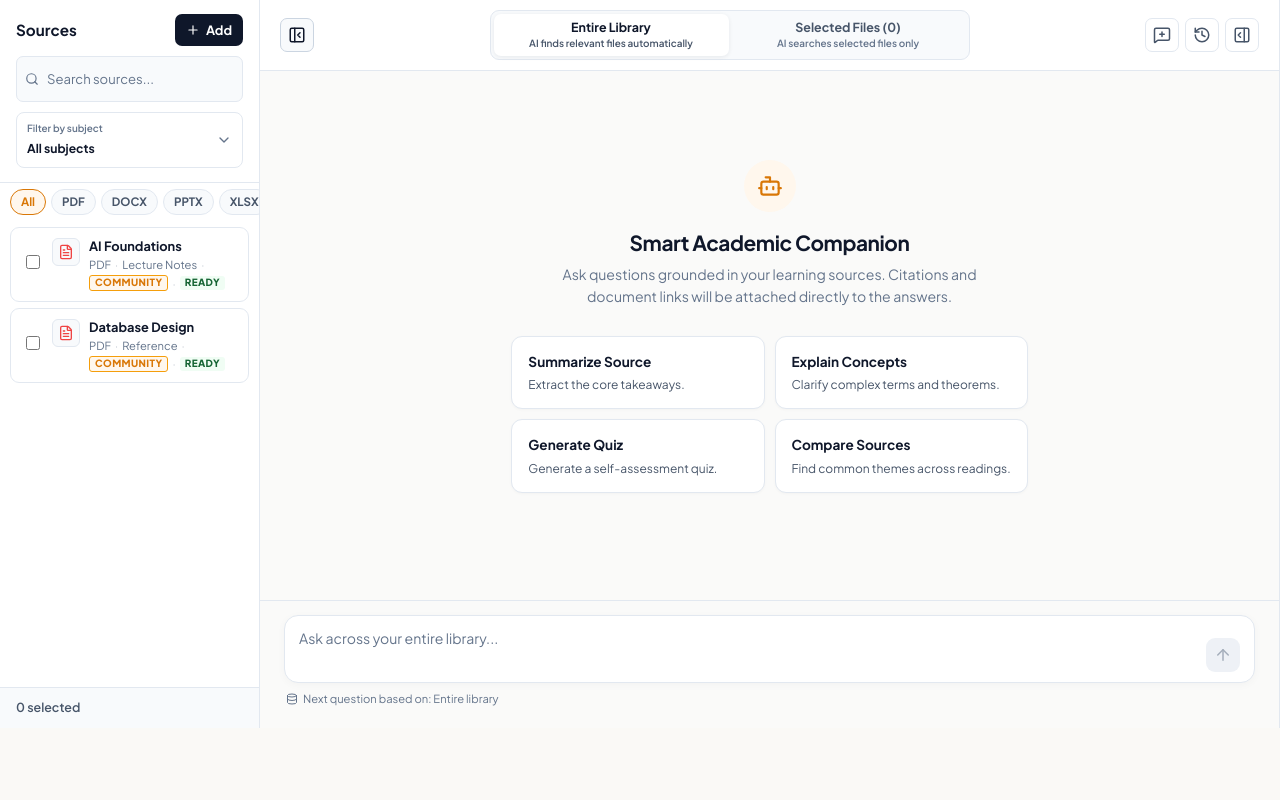
Test case: AiChatbotView subject filter › supports selecting multiple subjects and filters the source list
The width and height of the screenshot is (1280, 800).
Check: the text "AI Foundations" is shown, box left=89, top=238, right=182, bottom=254
Click the button "Filter by subject All subjects" at x=130, y=140, box left=16, top=112, right=243, bottom=168
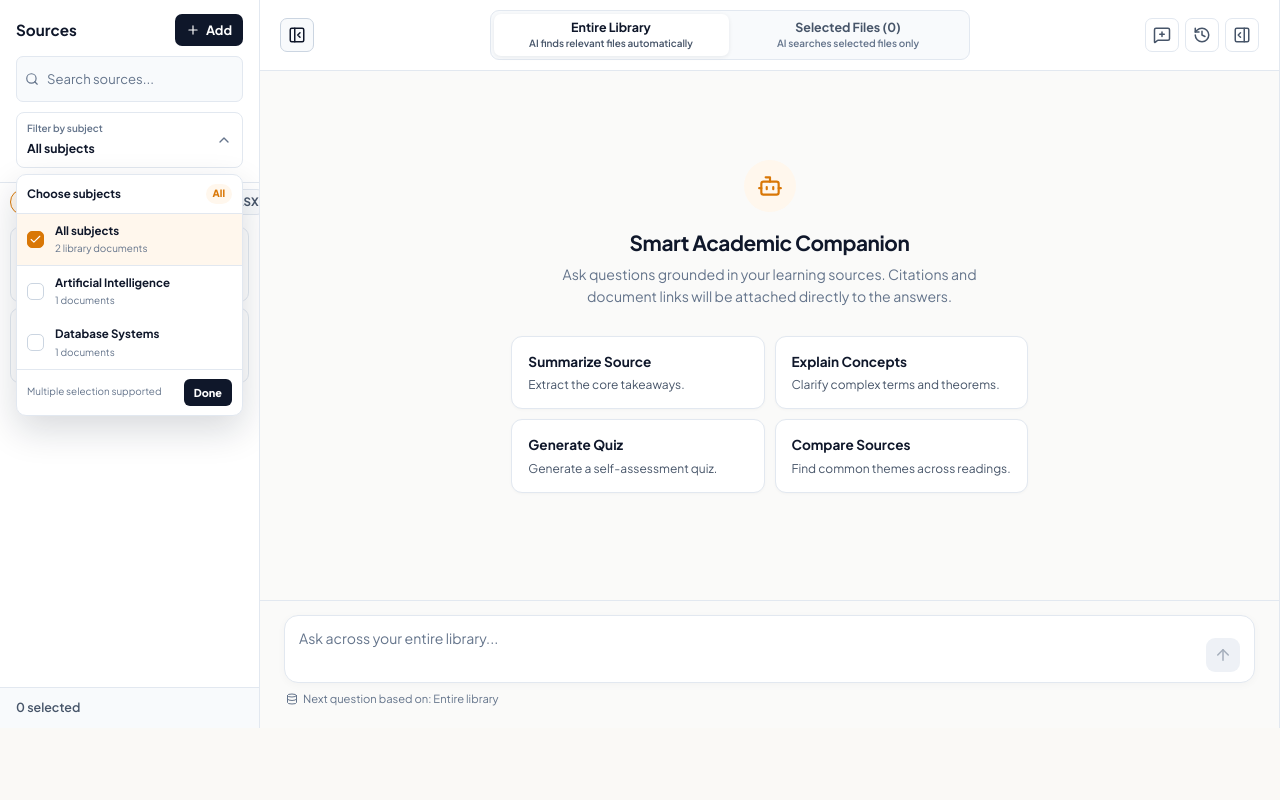
Click the button "Artificial Intelligence 1 documents" at x=130, y=292, box left=17, top=266, right=242, bottom=317
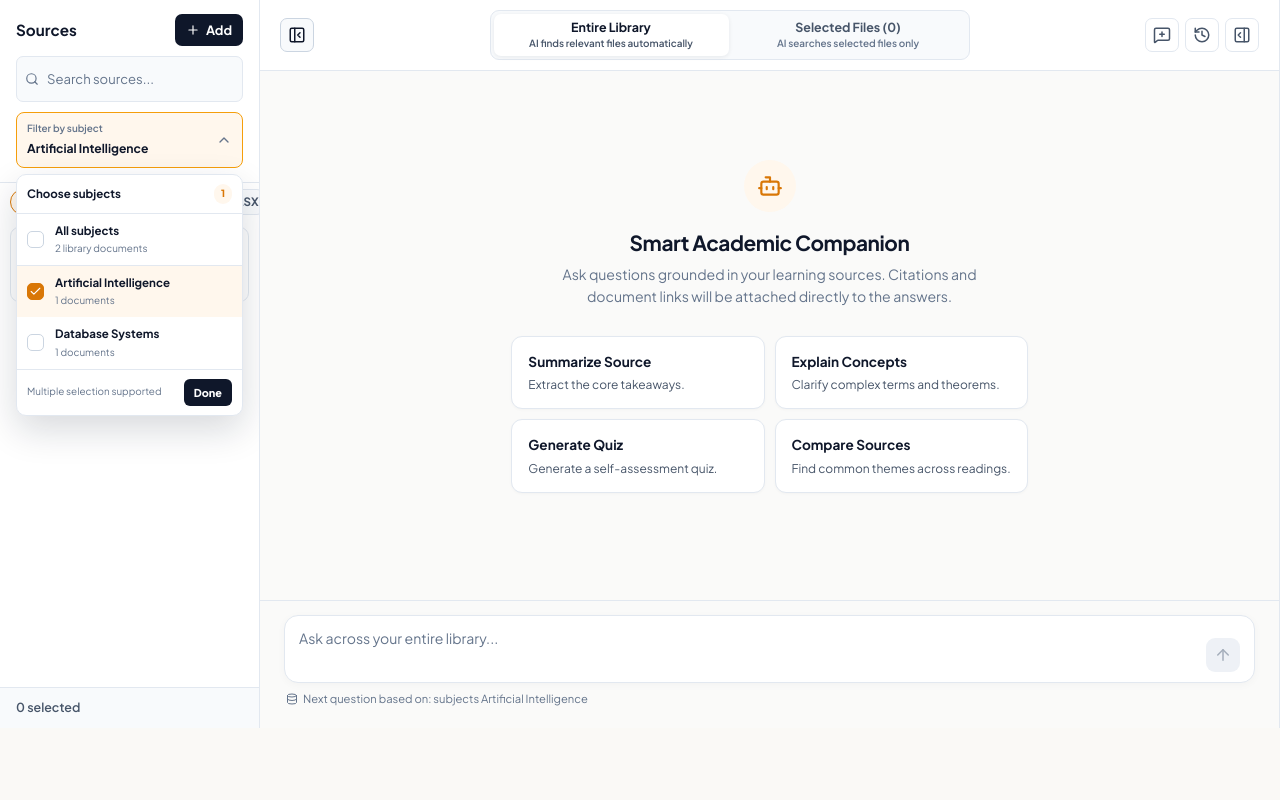
Check: the text "AI Foundations" is shown, box left=89, top=238, right=182, bottom=254
Check: the text "Database Design" is not shown
Click the button "Database Systems 1 documents" at x=130, y=343, box left=17, top=317, right=242, bottom=369
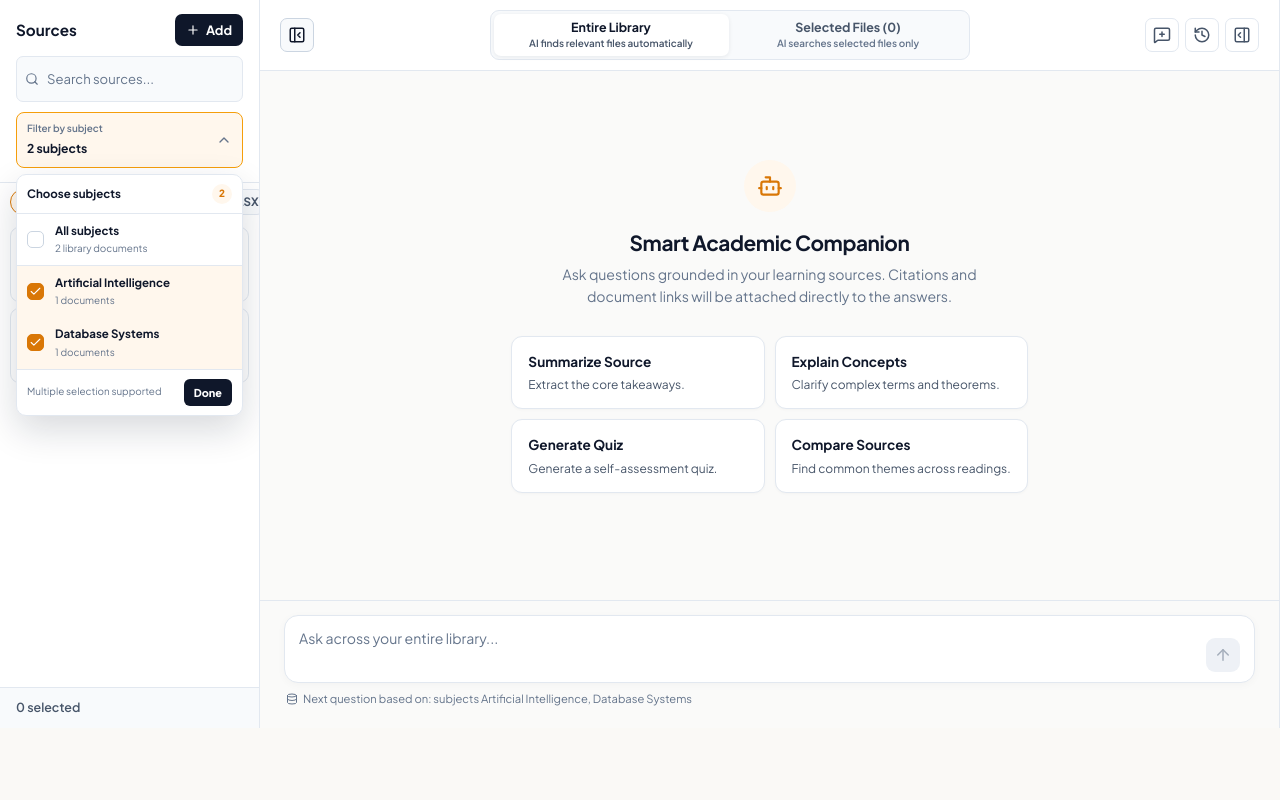
Check: the text "AI Foundations" is shown, box left=89, top=238, right=182, bottom=254
Check: the text "2 subjects" is shown, box left=27, top=140, right=87, bottom=156
